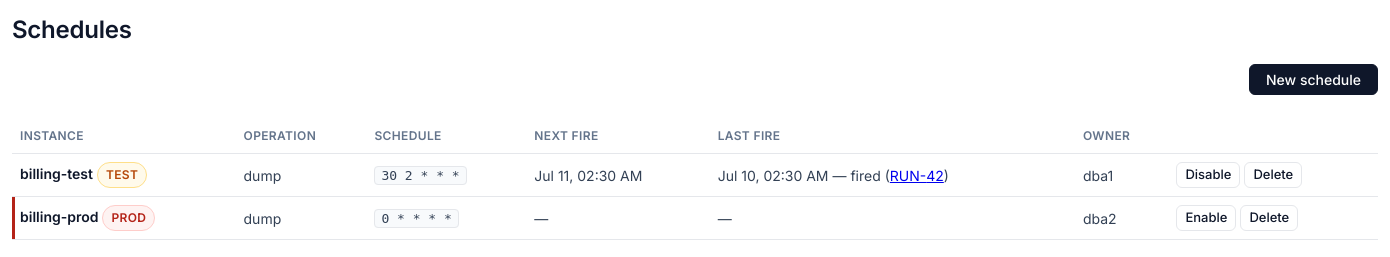
delete requires a second click to confirm, then removes the row
Click the button "Delete" in the row of "billing-test" at (1273, 175), box top-left (1244, 162), bottom-right (1302, 188)
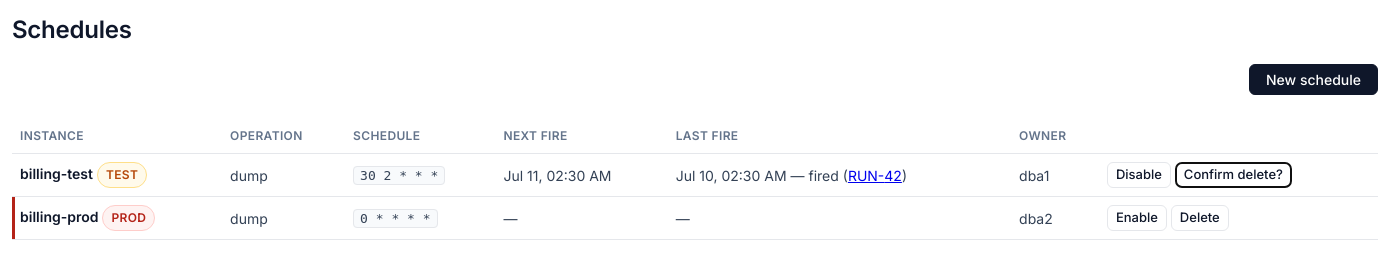
Expected: the button "Confirm delete?" is shown
Click the button "Confirm delete?" at (1233, 175), box top-left (1175, 162), bottom-right (1292, 188)
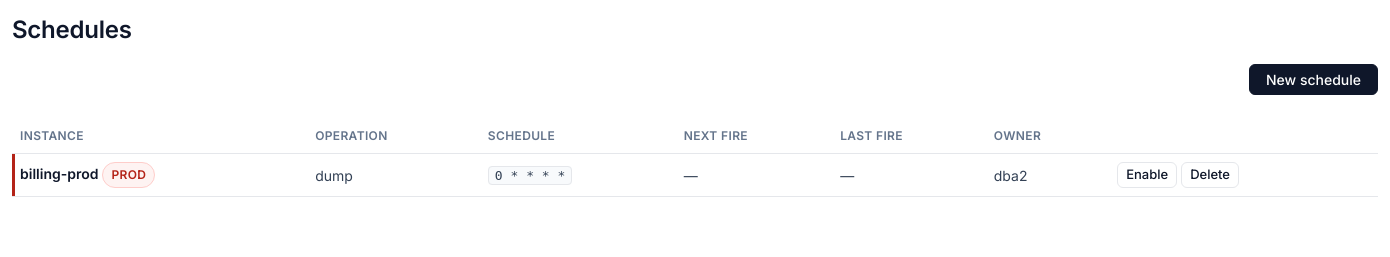
Expected: the text "billing-test" is gone
